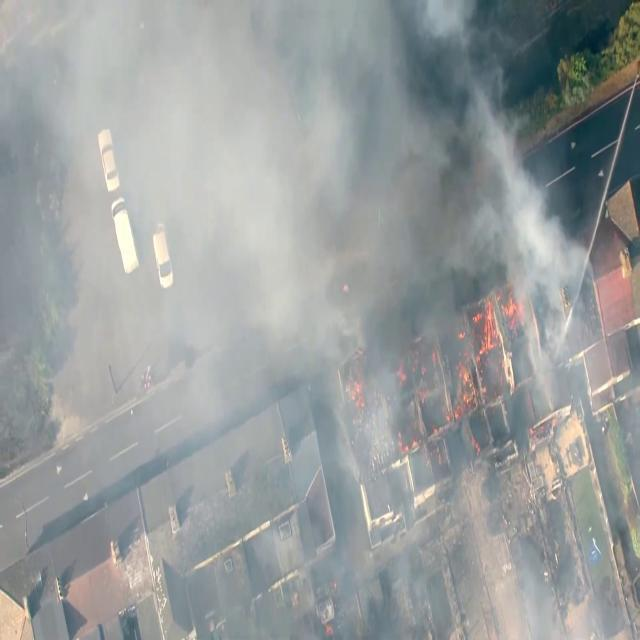Fire: (473, 293, 512, 341)
Smoke: (181, 49, 323, 280)
